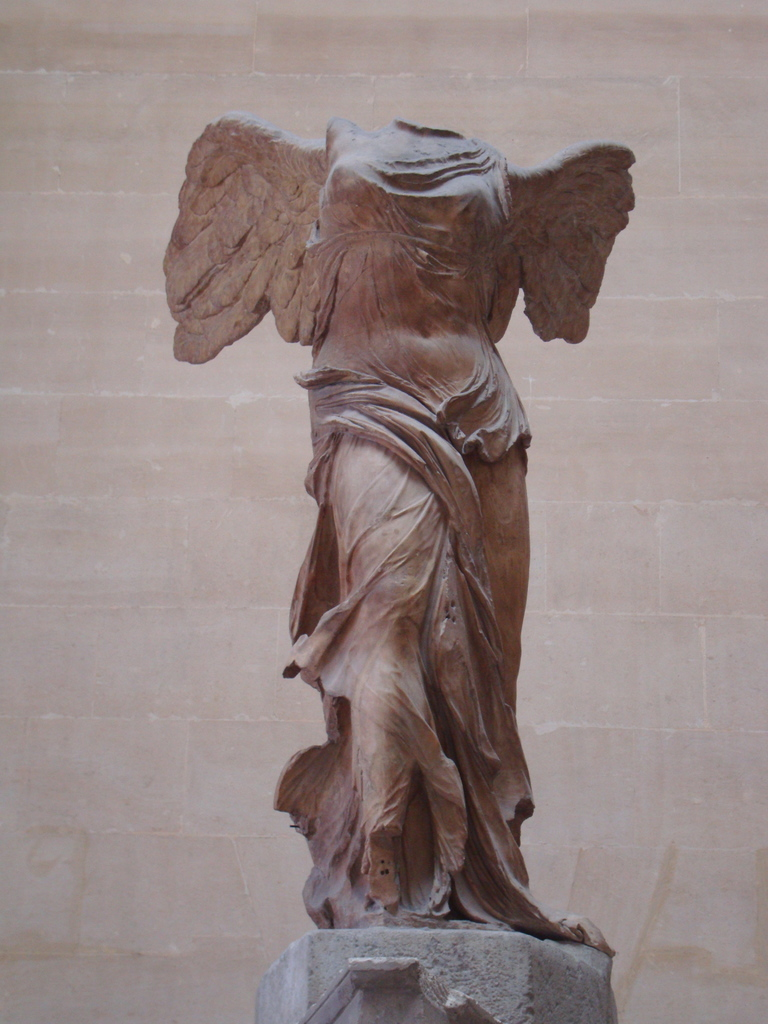Person: (162, 110, 636, 956)
